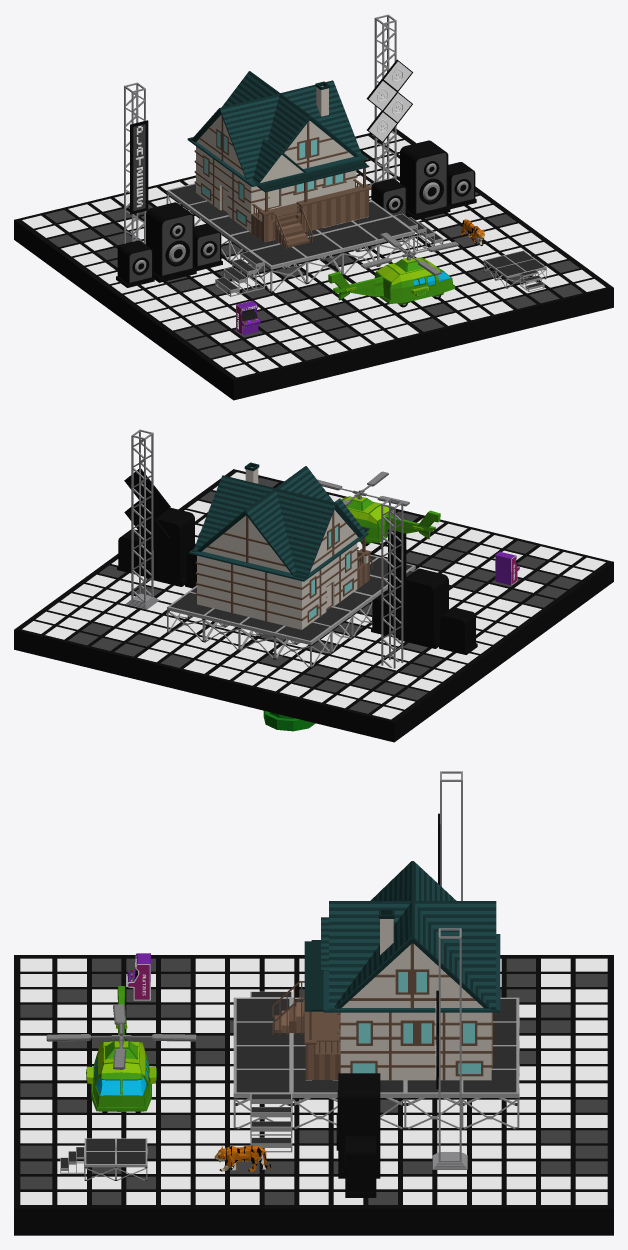
The picture shows the model from 3 angles, top to bottom: view 1: azimuth 30°, elevation 25°; view 2: azimuth 150°, elevation 25°; view 3: azimuth 270°, elevation 25°; orthographic projection. The views are drawn at different scales.
Parts seen in each view (by area): view 1: Cube.008, Cube.793, VEHICLES_HELICOPTER, OBJRANDOM_ARCADE; view 2: Cube.008, Cube.793, VEHICLES_HELICOPTER, OBJRANDOM_ARCADE, UNDERGROUND_PIPES; view 3: Cube.008, Cube.793, VEHICLES_HELICOPTER, ANIMAL_TIGRE, OBJRANDOM_ARCADE.
Boxes of the visible parts, box(x1,y1,x2,y2) form: Cube.008: box(14, 14, 613, 400); Cube.793: box(187, 71, 371, 248); VEHICLES_HELICOPTER: box(328, 232, 459, 307); OBJRANDOM_ARCADE: box(236, 300, 260, 335); Cube.008: box(14, 429, 613, 742); Cube.793: box(189, 462, 372, 629); VEHICLES_HELICOPTER: box(317, 471, 440, 546); OBJRANDOM_ARCADE: box(495, 551, 519, 585); UNDERGROUND_PIPES: box(263, 711, 315, 731); Cube.008: box(14, 771, 613, 1235); Cube.793: box(272, 861, 500, 1080); VEHICLES_HELICOPTER: box(46, 986, 196, 1112); ANIMAL_TIGRE: box(214, 1145, 271, 1171); OBJRANDOM_ARCADE: box(127, 953, 150, 1000).
Size of the model in its own units: 4000 by 2555 by 4000.
40 materials, 2 textured.
